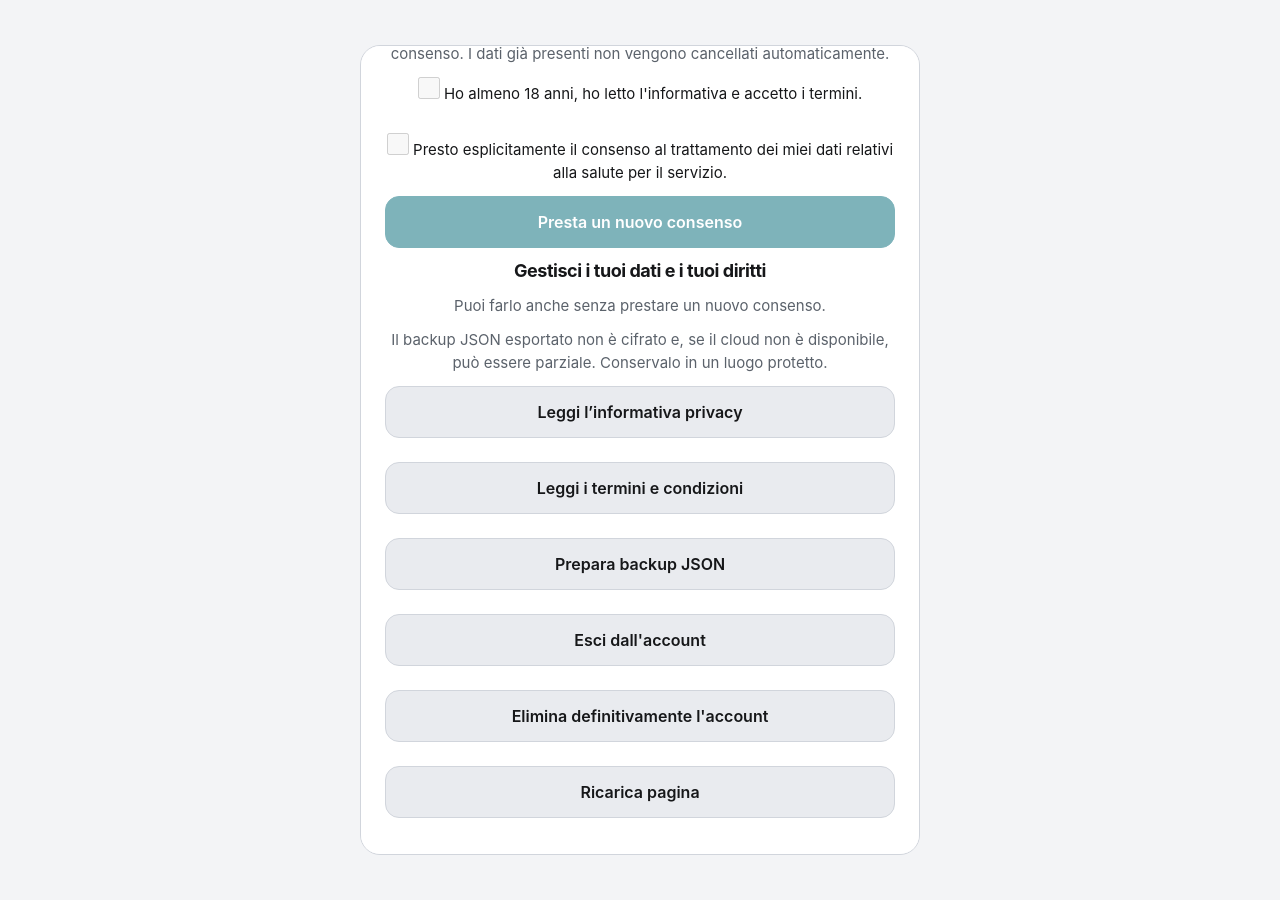
it: account consent withdrawal offline › uses the safe persistence barrier for a visible reload action, including after reconnect
(page scrolled)
Click the button "Ricarica pagina" at (640, 792), box [385,766,895,818]
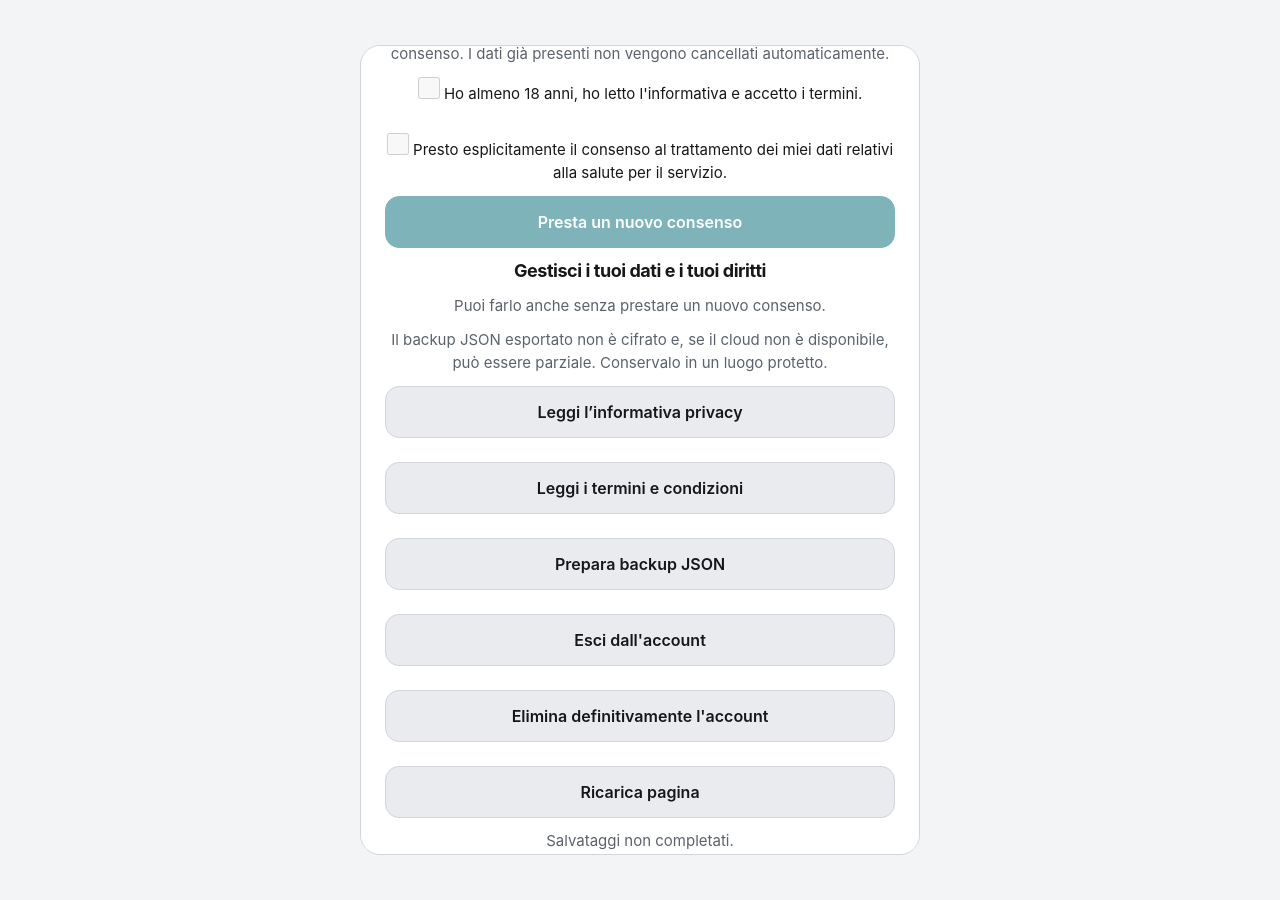
Expected: the message reads "Salvataggi non completati.", [546,831,734,850]
